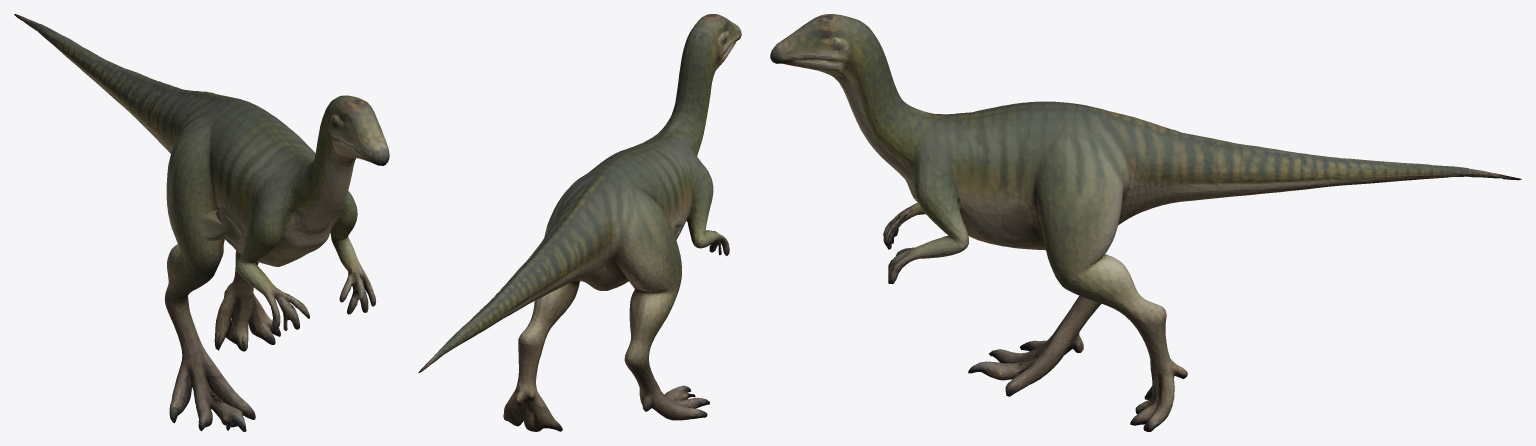
3 renders of one model, left to right at view 1: azimuth 30°, elevation 25°; view 2: azimuth 150°, elevation 25°; view 3: azimuth 270°, elevation 25°, orthographic. The views are drawn at different scales.
Visible parts, largest first — view 1: world; view 2: world; view 3: world.
Boxes of the visible parts, left/top/right/bottom form: world: left=14, top=14, right=389, bottom=431; world: left=418, top=14, right=741, bottom=431; world: left=770, top=14, right=1521, bottom=431.
Size of the model in its own units: 0.803 by 1.71 by 3.
3 materials, 1 textured.
